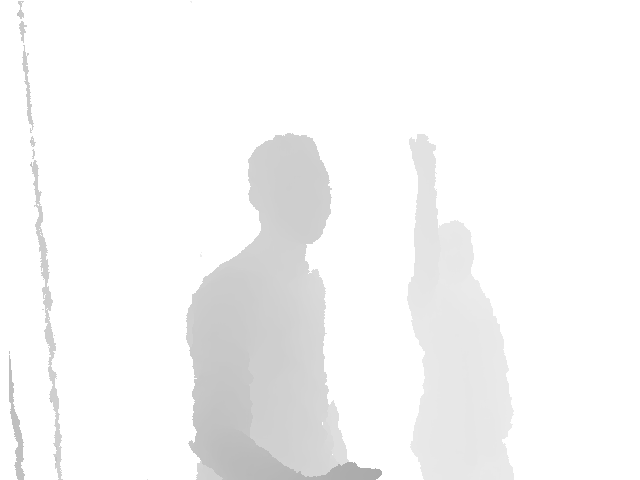hand: (407, 132, 437, 176)
head: (246, 132, 332, 246), (437, 220, 474, 274)
person: (184, 132, 383, 479), (406, 132, 517, 479)
